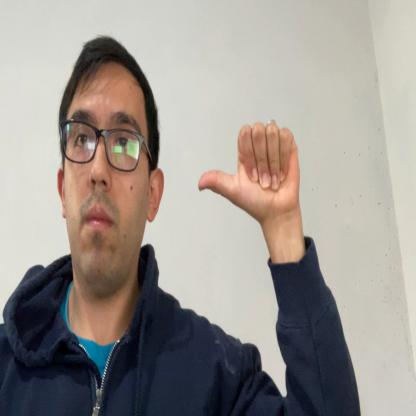A: (198, 119, 301, 219)
